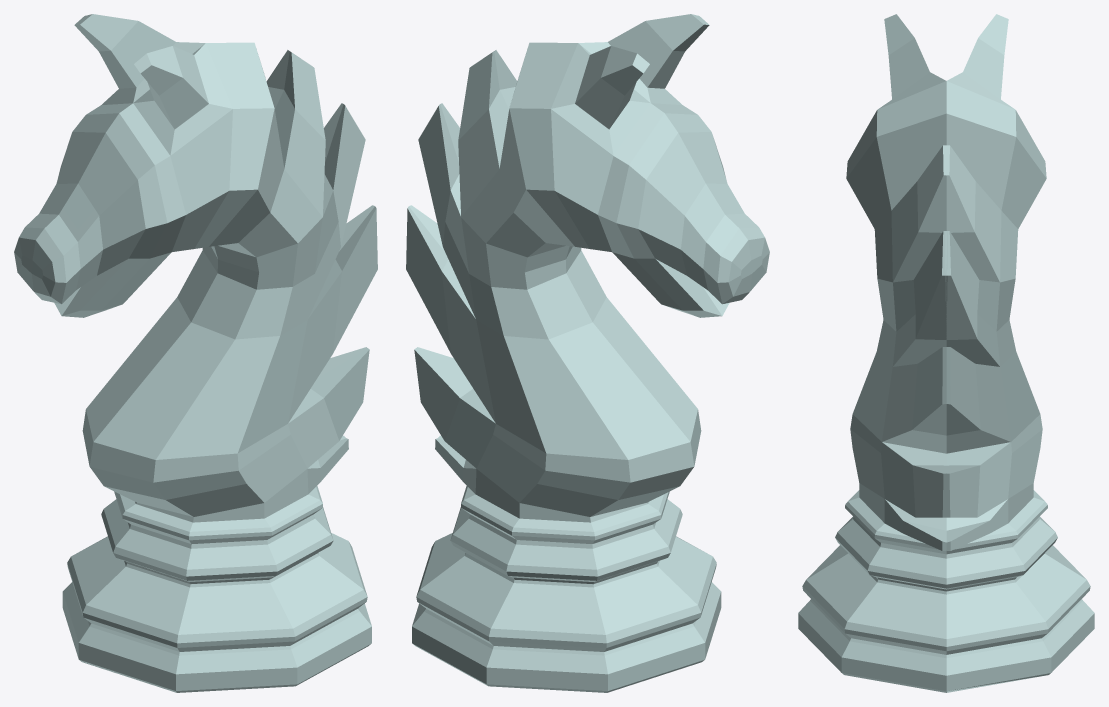
File: white-knight.obj
3 renders of one model, left to right at view 1: azimuth 30°, elevation 25°; view 2: azimuth 150°, elevation 25°; view 3: azimuth 270°, elevation 25°, orthographic. The views are drawn at different scales.
Visible parts, largest first — view 1: White_Knight_01_White_Square_0.002; view 2: White_Knight_01_White_Square_0.002; view 3: White_Knight_01_White_Square_0.002.
Boxes of the visible parts, x1,y1,x2,y2 form: White_Knight_01_White_Square_0.002: [14, 14, 377, 692]; White_Knight_01_White_Square_0.002: [406, 14, 769, 692]; White_Knight_01_White_Square_0.002: [798, 14, 1094, 692].
Bounding box in the file's own units: 3.85 × 6.62 × 3.1.
